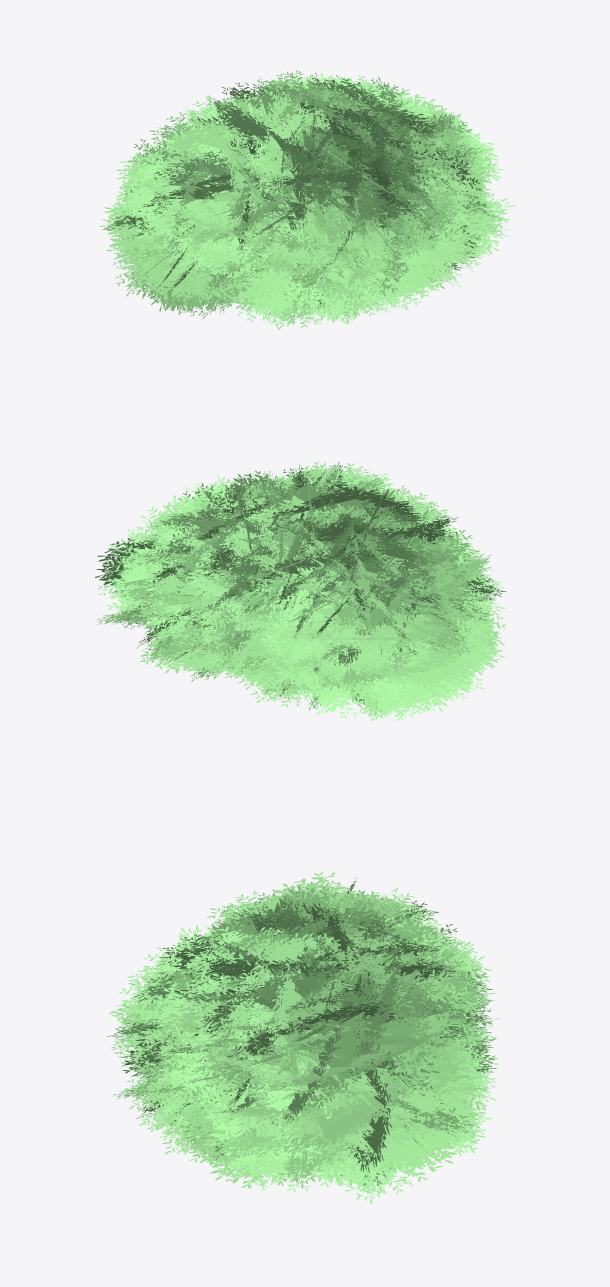
File: Bush.fbx
3 views of the same model, one above another, from view 1: azimuth 30°, elevation 25°; view 2: azimuth 150°, elevation 25°; view 3: azimuth 270°, elevation 25° (orthographic). The views are drawn at different scales.
Visible parts, largest first — view 1: bUSH.576; view 2: bUSH.576; view 3: bUSH.576.
Boxes of the visible parts, left/top/right/bottom form: bUSH.576: left=99, top=70, right=515, bottom=329; bUSH.576: left=94, top=462, right=505, bottom=721; bUSH.576: left=106, top=872, right=499, bottom=1203.
Size of the model in its own units: 166 by 84.04 by 140.
Materials: 1 (1 with a texture image).
